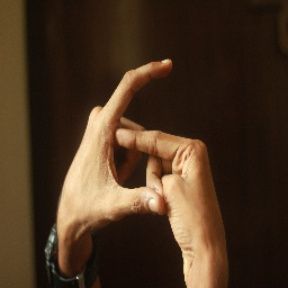E: (93, 49, 198, 226)
